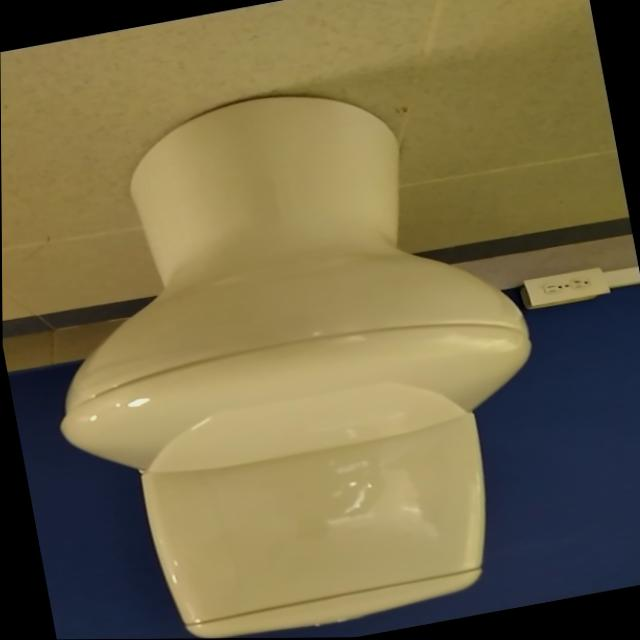toilet: (5, 57, 574, 640)
